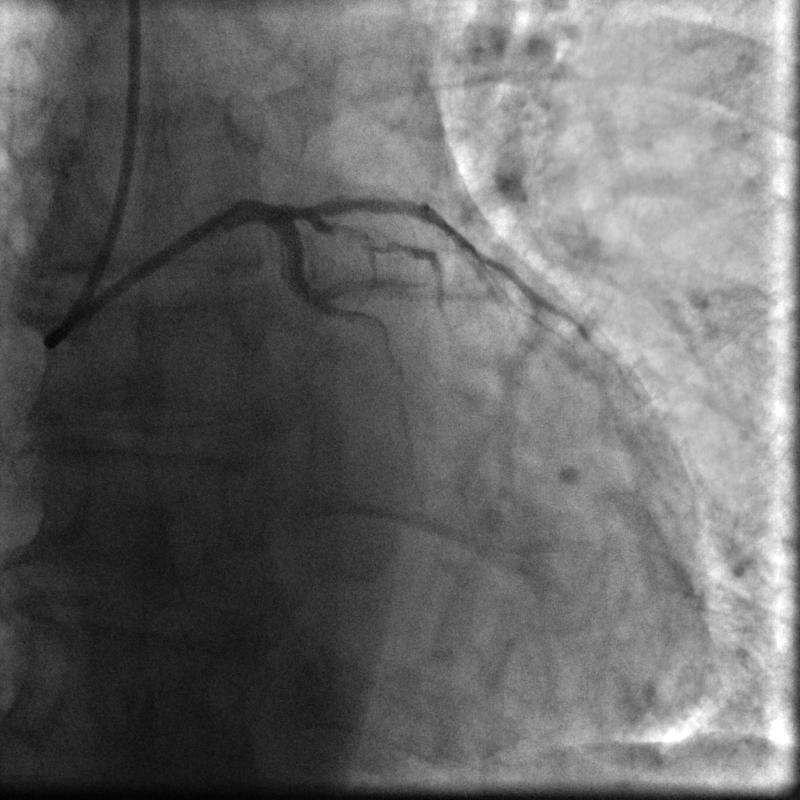Stenosis: (325, 216, 400, 258)
